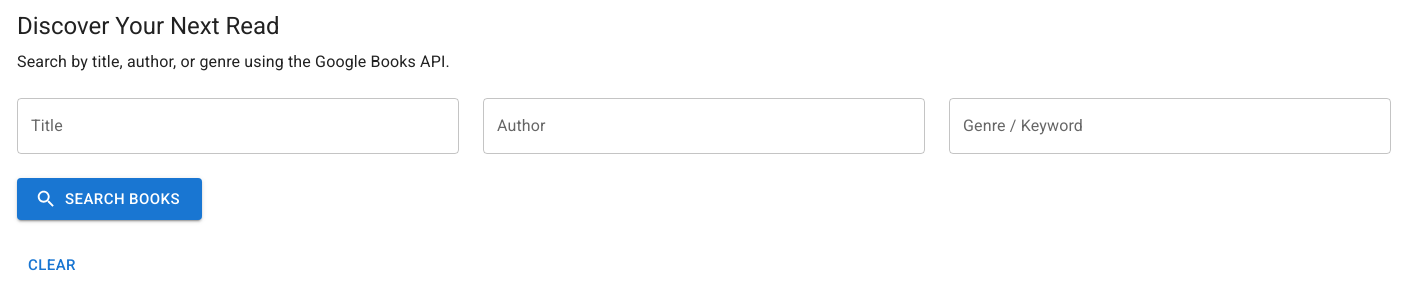
SearchForm › clears fields when clicking clear
Type "React" into the field labelled "Title". click: coordinates (238, 126)
box: [17,98,459,154]
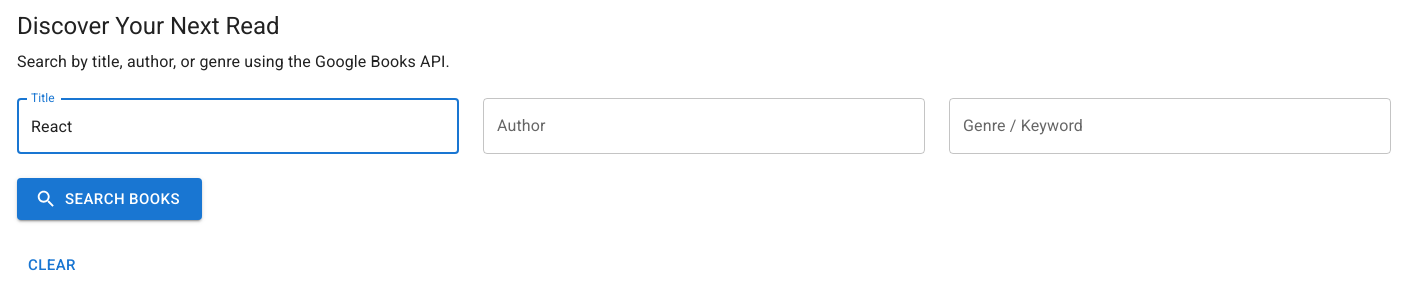
Click the button "Clear". click: coordinates (52, 265)
box: [17,244,87,287]
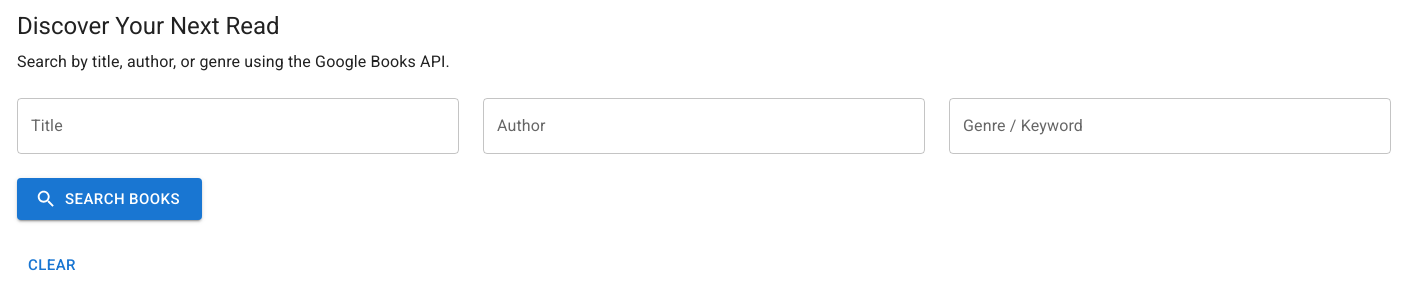
Check: the field labelled "Title" is empty, box [17,98,459,154]
